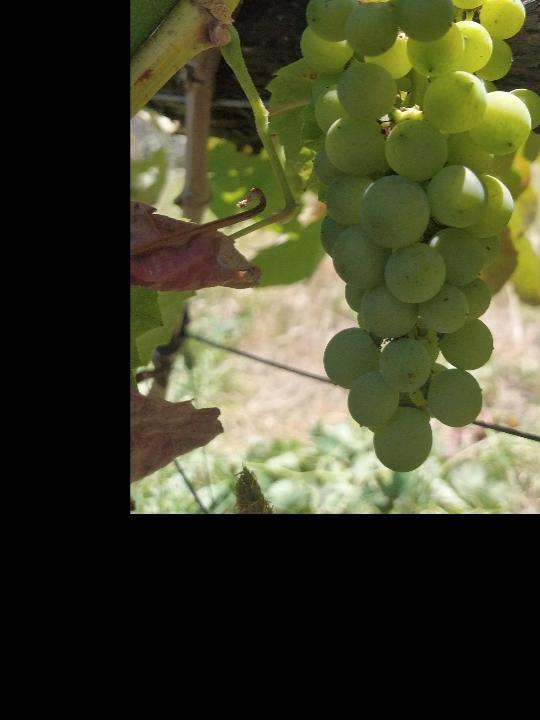grape: (299, 0, 540, 474)
